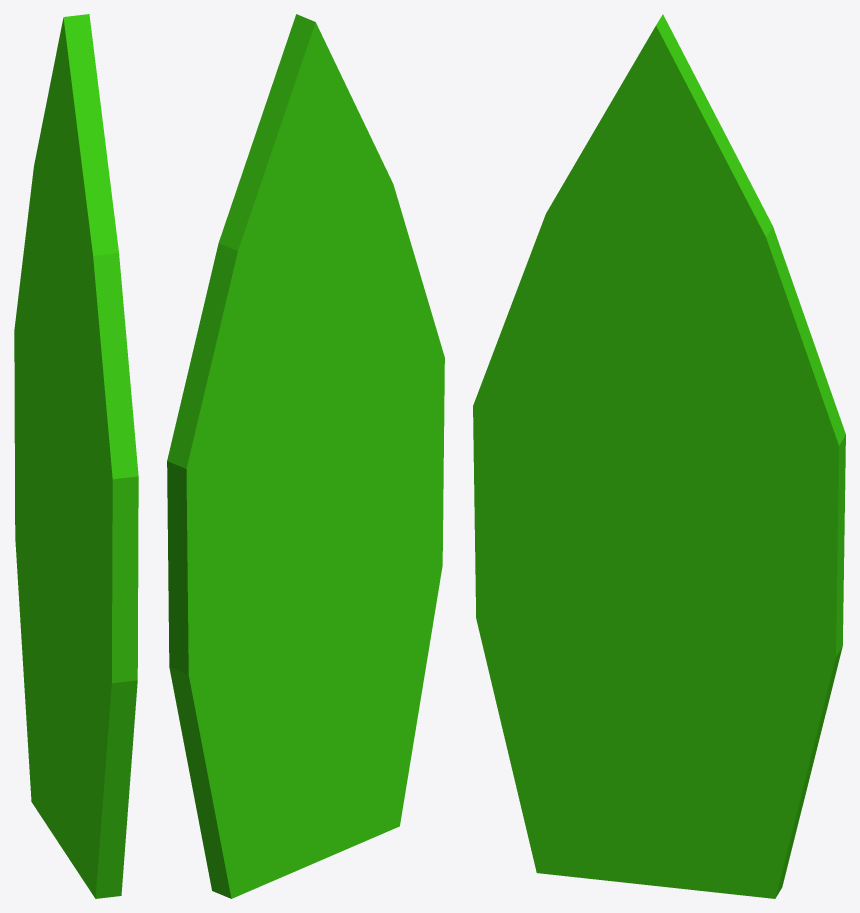
File: Rigged Grass Export 3.fbx
The picture shows the model from 3 angles, left to right: view 1: azimuth 30°, elevation 25°; view 2: azimuth 150°, elevation 25°; view 3: azimuth 270°, elevation 25°; orthographic projection. The views are drawn at different scales.
Visible parts, largest first — view 1: Grass 2 Left Left 7; view 2: Grass 2 Left Left 7; view 3: Grass 2 Left Left 7.
Part boxes in pixels (x1=…): Grass 2 Left Left 7: x1=14, y1=14, x2=138, y2=898; Grass 2 Left Left 7: x1=167, y1=14, x2=444, y2=898; Grass 2 Left Left 7: x1=473, y1=14, x2=845, y2=898.
Size of the model in its own units: 44.98 by 353 by 139.
